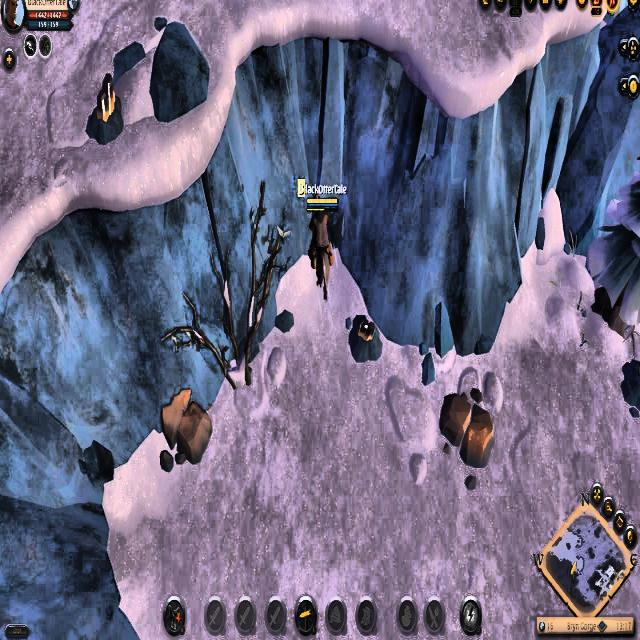copperore: (85, 69, 125, 147), (346, 309, 382, 363)
limestone: (437, 390, 497, 470), (158, 389, 212, 475)
